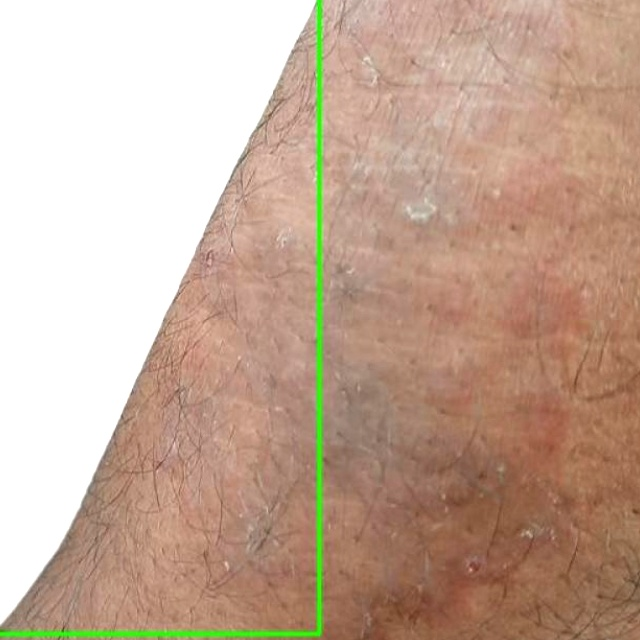Tinea Corporis: (0, 0, 319, 633)
